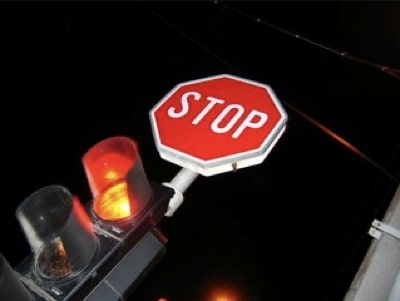StopSign: (147, 72, 289, 178)
